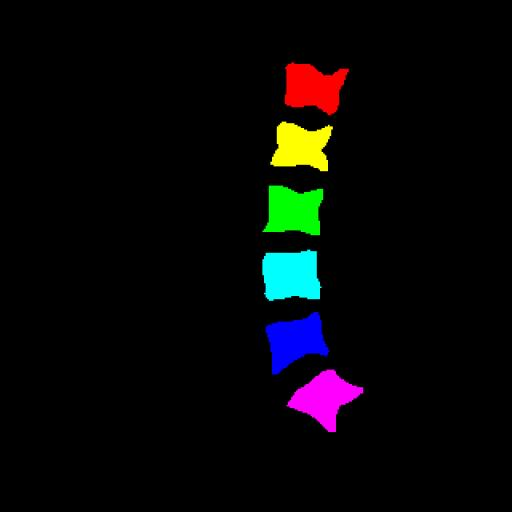L1: (285, 64, 350, 115)
L2: (272, 122, 333, 171)
L3: (264, 185, 322, 235)
L4: (262, 251, 320, 300)
L5: (265, 312, 330, 375)
S1: (287, 369, 364, 432)
